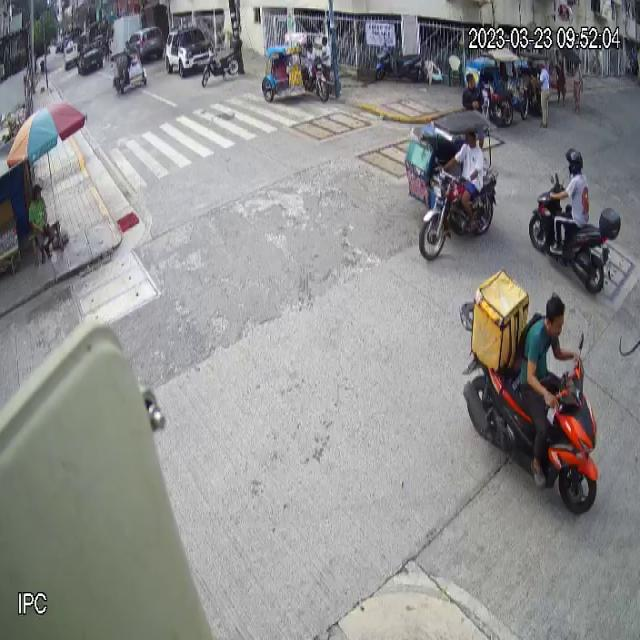Motorcycle: (456, 331, 602, 515), (528, 169, 622, 297)
Tricycle: (403, 107, 501, 261), (261, 32, 331, 103)
